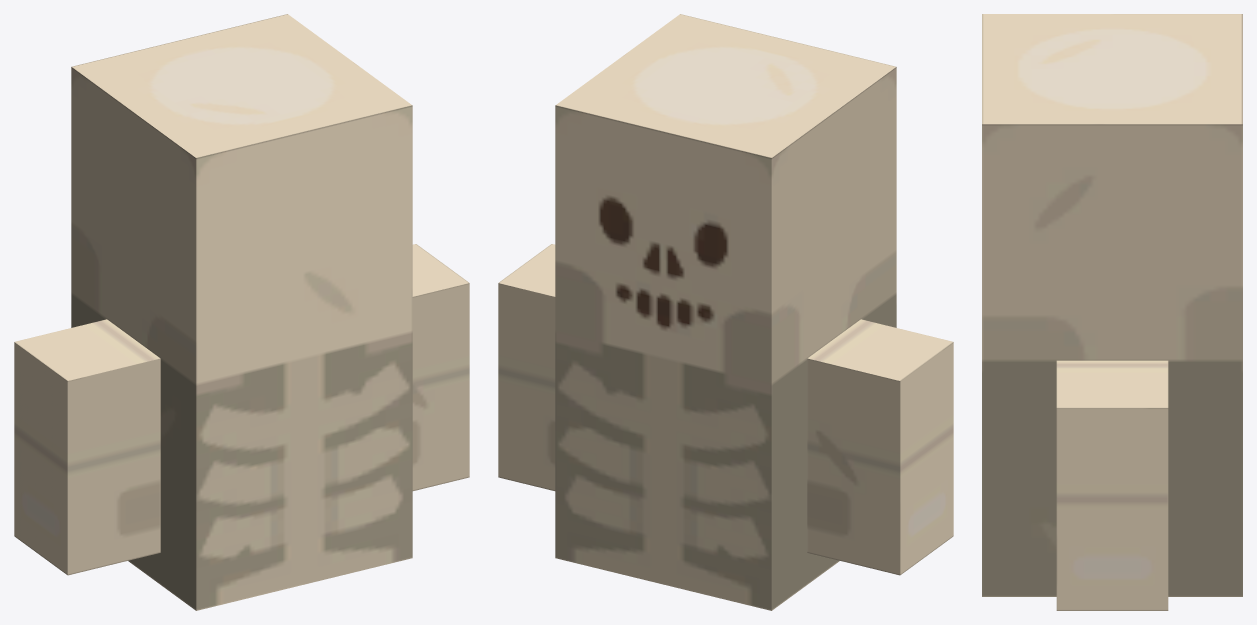
Rendered from character_skeleton.obj.
The picture shows the model from 3 angles, left to right: view 1: azimuth 30°, elevation 25°; view 2: azimuth 150°, elevation 25°; view 3: azimuth 270°, elevation 25°; orthographic projection. The views are drawn at different scales.
Visible parts, largest first — view 1: head 1, character_skeleton, left 1, right 1; view 2: head 1, character_skeleton, left 1, right 1; view 3: head 1, character_skeleton, right 1.
Boxes of the visible parts, bbox=[...] form: head 1: bbox=[71, 14, 412, 384]; character_skeleton: bbox=[71, 293, 412, 610]; left 1: bbox=[14, 319, 160, 575]; right 1: bbox=[412, 244, 469, 490]; head 1: bbox=[555, 14, 896, 384]; character_skeleton: bbox=[555, 293, 896, 610]; left 1: bbox=[807, 319, 953, 575]; right 1: bbox=[498, 244, 555, 490]; head 1: bbox=[982, 14, 1242, 360]; character_skeleton: bbox=[982, 360, 1242, 596]; right 1: bbox=[1056, 360, 1168, 610].
Bounding box in the file's own units: 4.83 × 5.2 × 2.6.
Materials: 1 (1 with a texture image).
